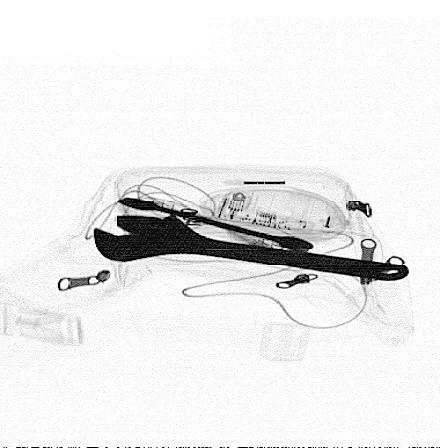Wrench: (93, 215, 409, 280), (119, 197, 311, 249)
